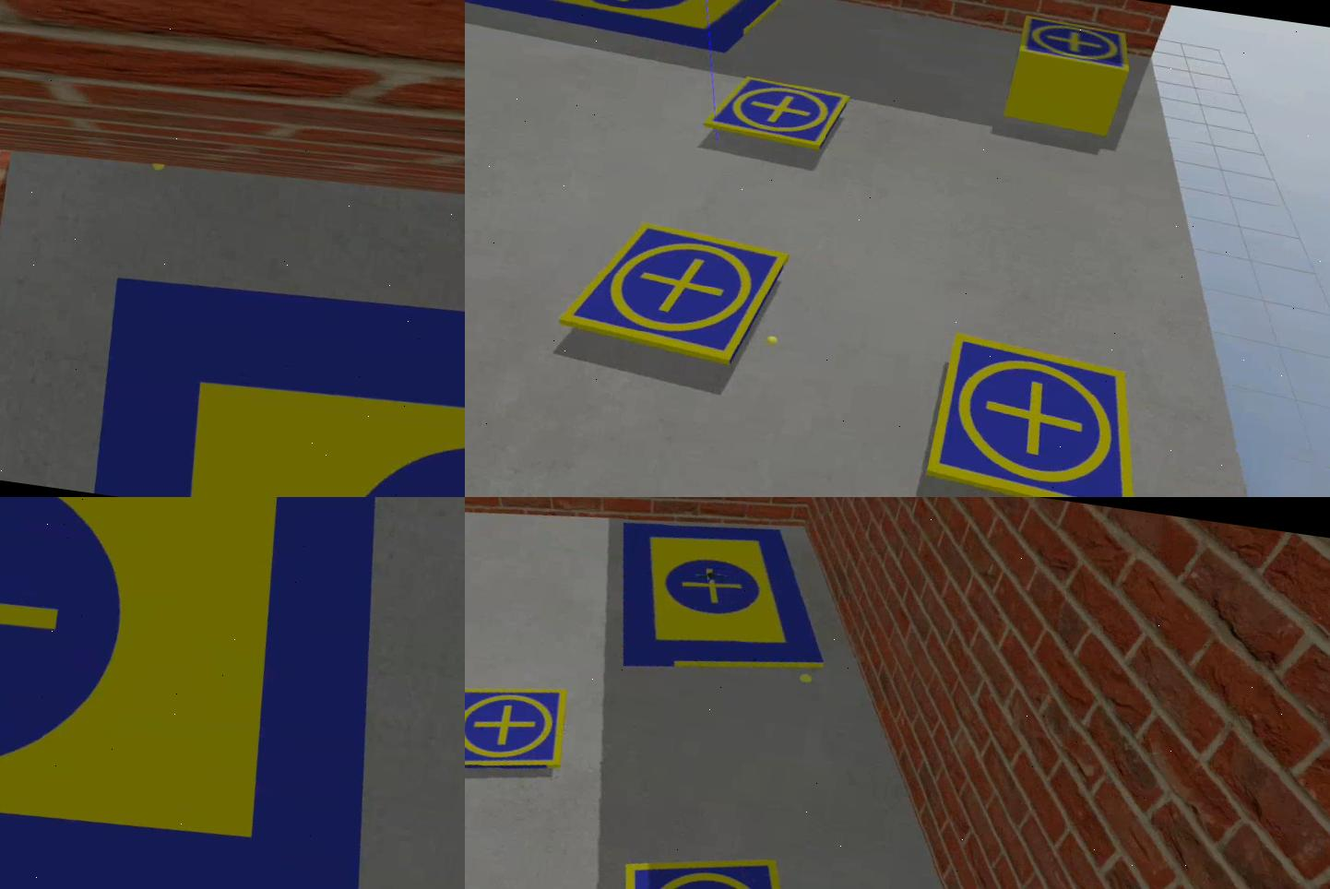large_base: (1, 498, 439, 889), (89, 248, 466, 498), (601, 503, 843, 696), (466, 1, 793, 64)
small_base: (920, 328, 1163, 498), (555, 209, 792, 373), (706, 71, 853, 159), (466, 673, 571, 786), (606, 839, 823, 889), (1016, 13, 1134, 75)
